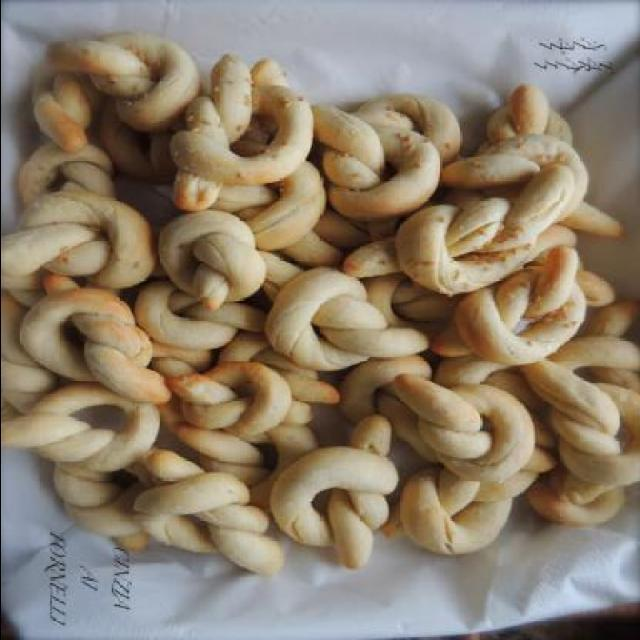Taralli: (17, 61, 608, 564)
